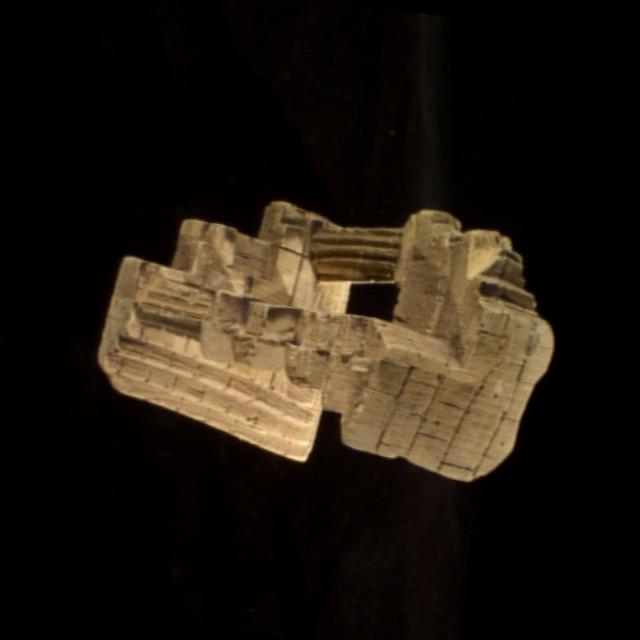Instance-Segmentation: (98, 201, 552, 479)
